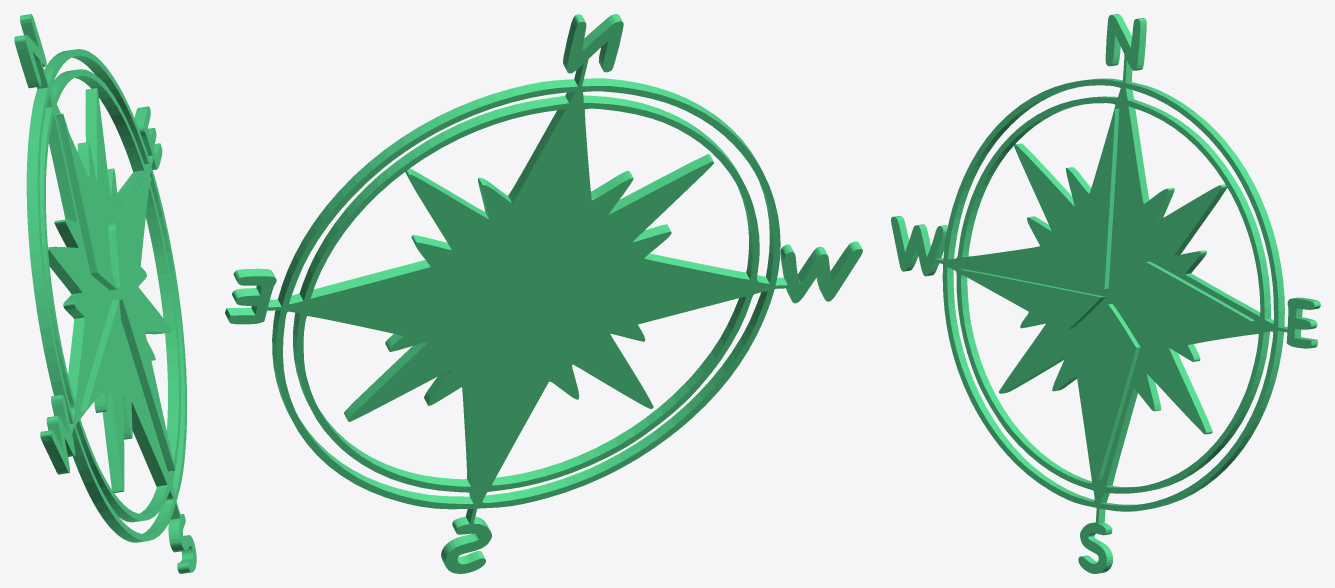
The model's file is compass.glb.
3 views of the same model, side by side, from view 1: azimuth 30°, elevation 25°; view 2: azimuth 150°, elevation 25°; view 3: azimuth 270°, elevation 25° (orthographic). The views are drawn at different scales.
Parts seen in each view (by area): view 1: Object.1; view 2: Object.1; view 3: Object.1.
Boxes of the visible parts, left/top/right/bottom form: Object.1: left=14, top=14, right=196, bottom=573; Object.1: left=225, top=14, right=862, bottom=573; Object.1: left=891, top=14, right=1320, bottom=573.
Size of the model in its own units: 1.48 by 2.25 by 1.76.
